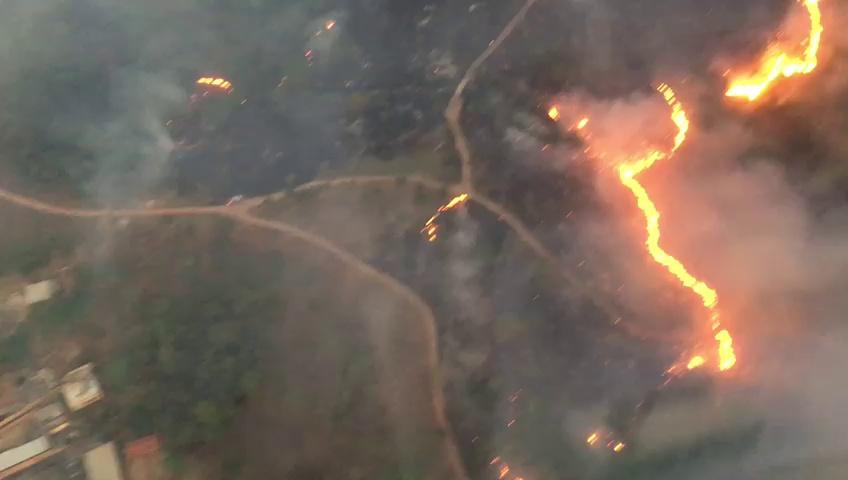fire: (724, 44, 821, 103), (644, 196, 665, 259), (712, 325, 738, 372), (620, 154, 655, 184), (695, 278, 719, 308)
